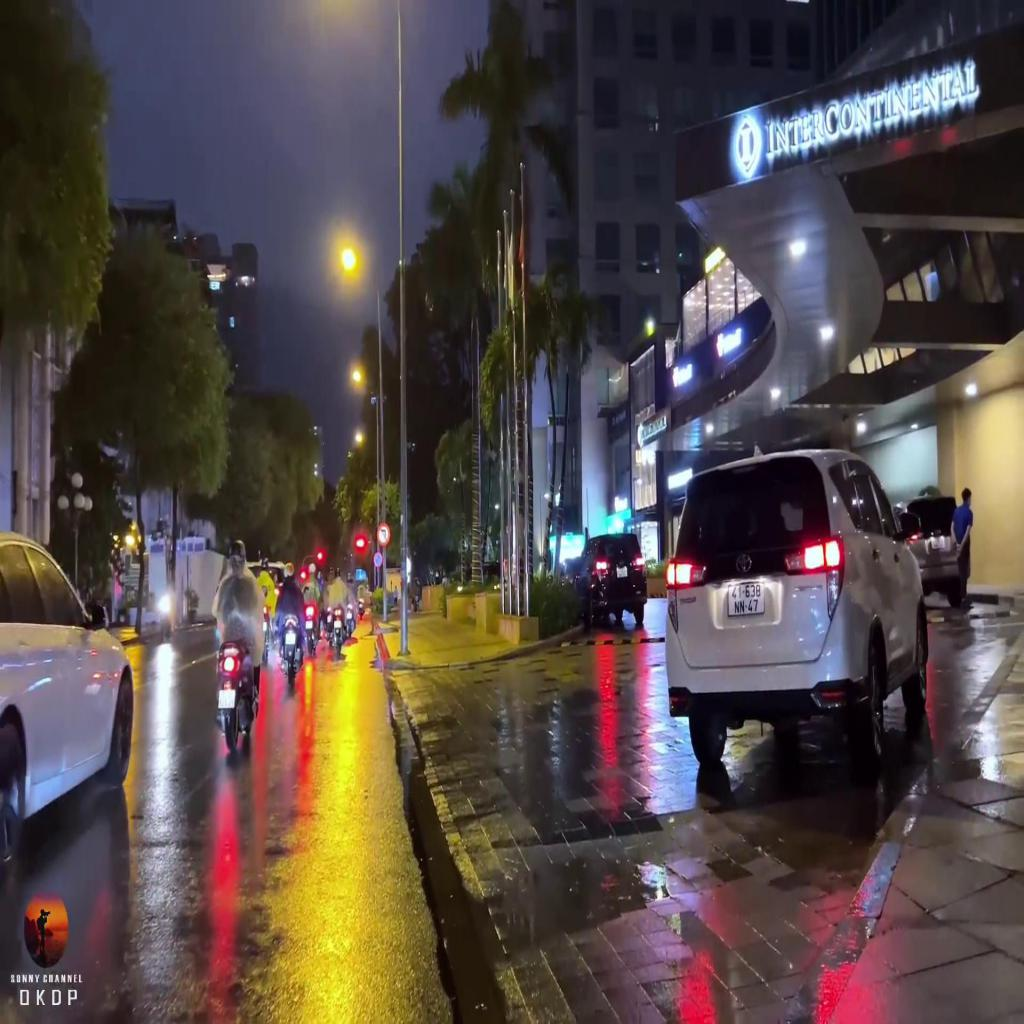cam_do_xe: (374, 551, 382, 566)
cam_re_trai: (377, 523, 390, 546)
